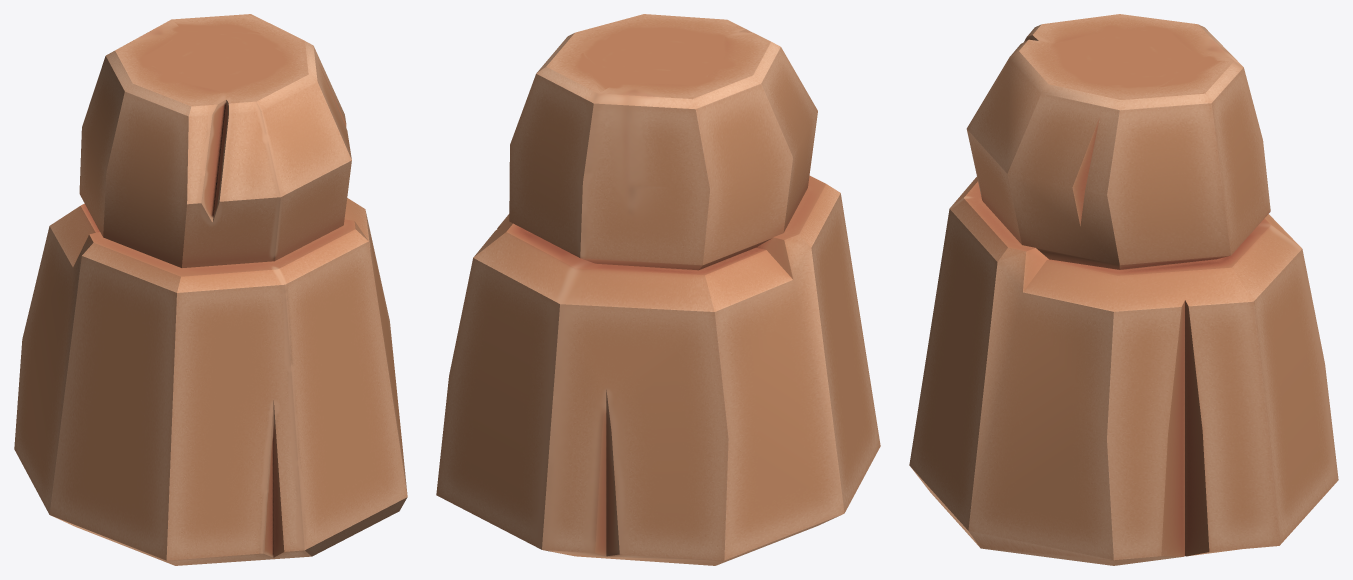
Rendered from rock_14.glb.
The picture shows the model from 3 angles, left to right: view 1: azimuth 30°, elevation 25°; view 2: azimuth 150°, elevation 25°; view 3: azimuth 270°, elevation 25°; orthographic projection. The views are drawn at different scales.
Visible parts, largest first — view 1: Rock_14; view 2: Rock_14; view 3: Rock_14.
Part boxes in pixels (x1=…): Rock_14: x1=14, y1=14, x2=407, y2=565; Rock_14: x1=436, y1=14, x2=880, y2=565; Rock_14: x1=909, y1=14, x2=1338, y2=565.
Size of the model in its own units: 2.59 by 3.05 by 2.72.
Materials: 1 (1 with a texture image).
